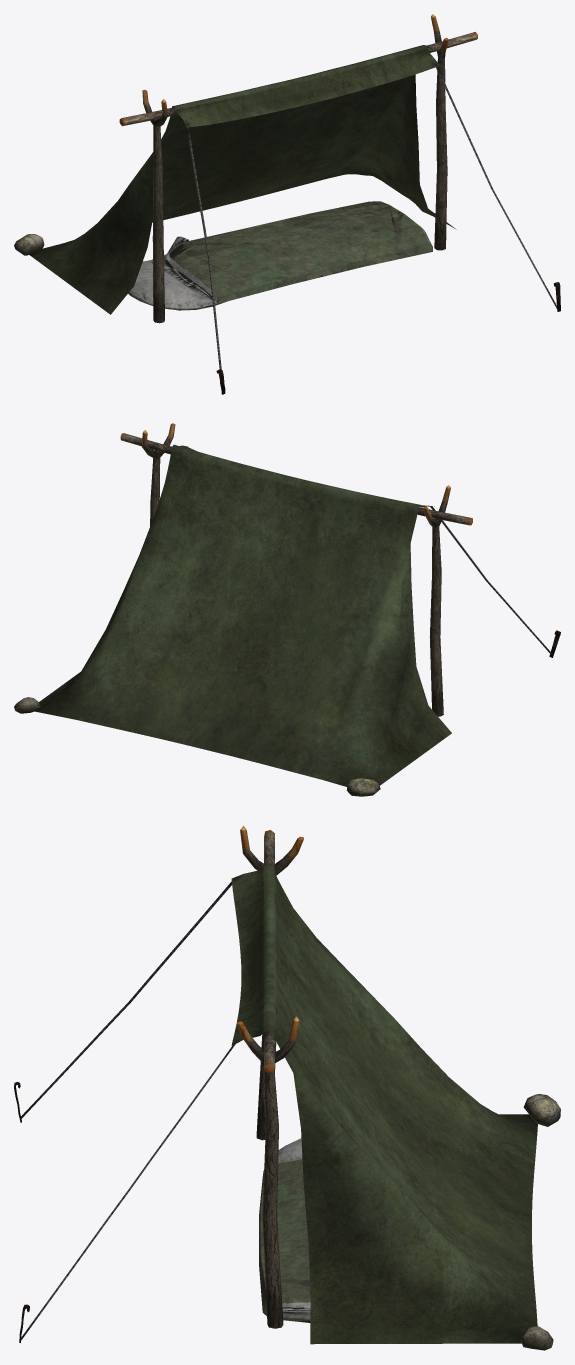
The model's file is tent.glb.
3 renders of one model, top to bottom at view 1: azimuth 30°, elevation 25°; view 2: azimuth 150°, elevation 25°; view 3: azimuth 270°, elevation 25°, orthographic. The views are drawn at different scales.
Visible parts, largest first — view 1: Tent; view 2: Tent; view 3: Tent.
Part boxes in pixels (x1=…): Tent: x1=14, y1=14, x2=560, y2=394; Tent: x1=14, y1=423, x2=560, y2=796; Tent: x1=14, y1=825, x2=560, y2=1350.
Bounding box in the file's own units: 206 × 122 × 195.
1 material, 1 textured.
